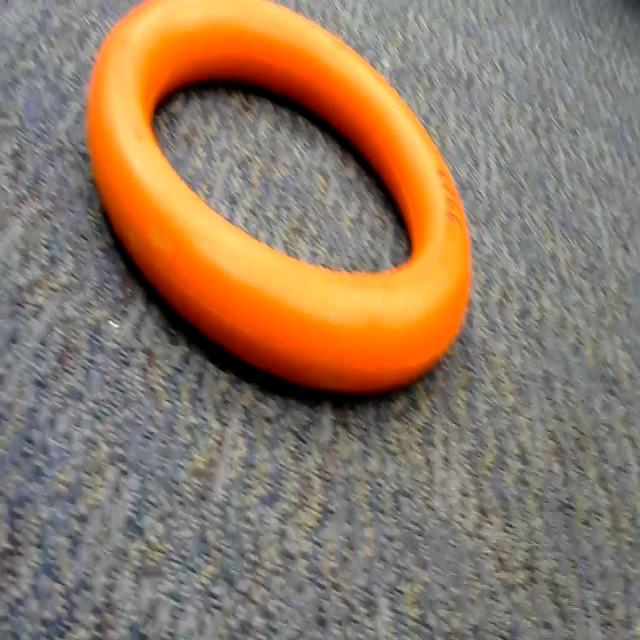note: (74, 0, 484, 429)
